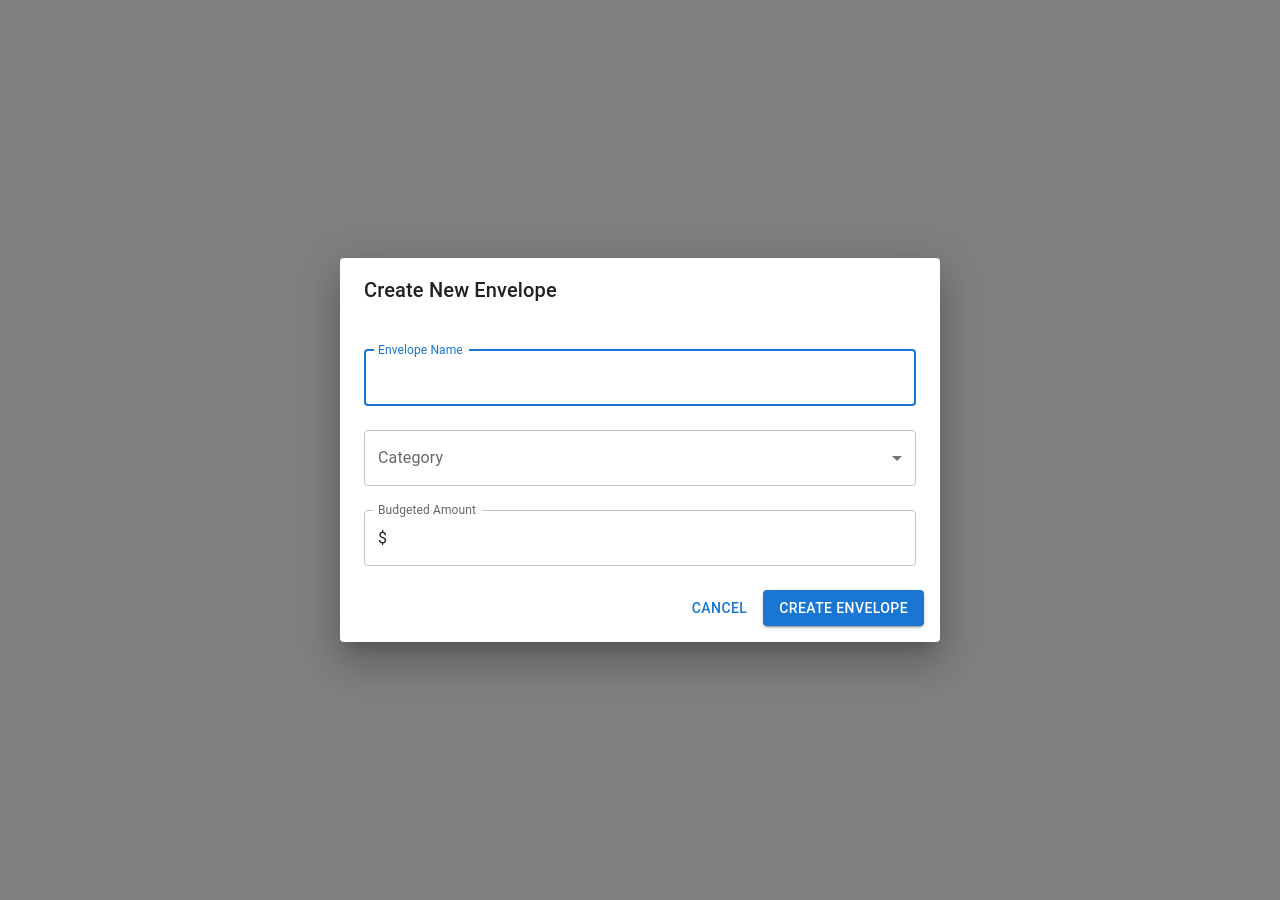
EnvelopeForm › validates empty fields
Click the button "Create Envelope" at (844, 608), box [763,590,924,626]
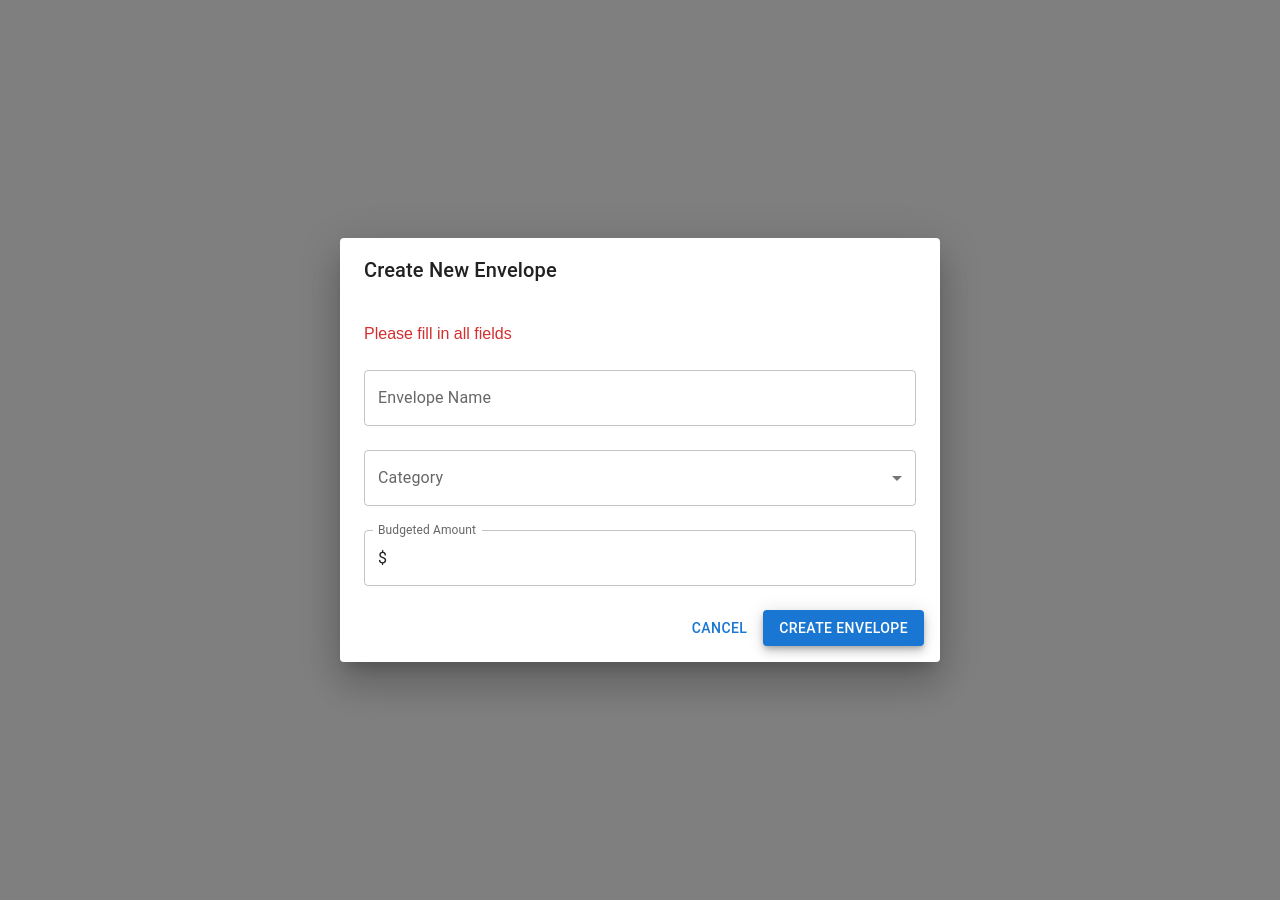
Expected: the text "Please fill in all fields" is shown, [364,325,512,342]
